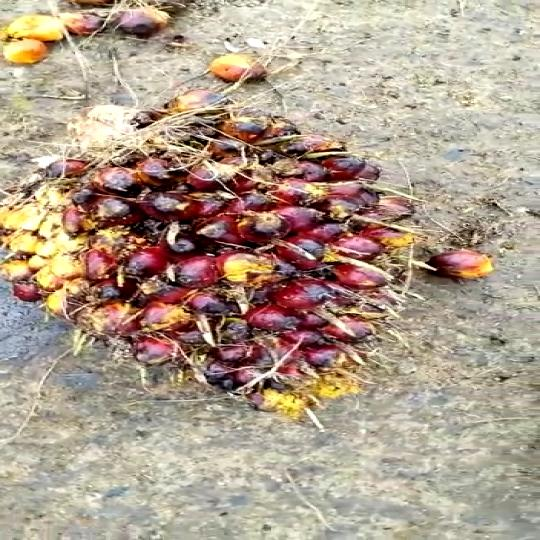kurang masak: (26, 98, 454, 411)
